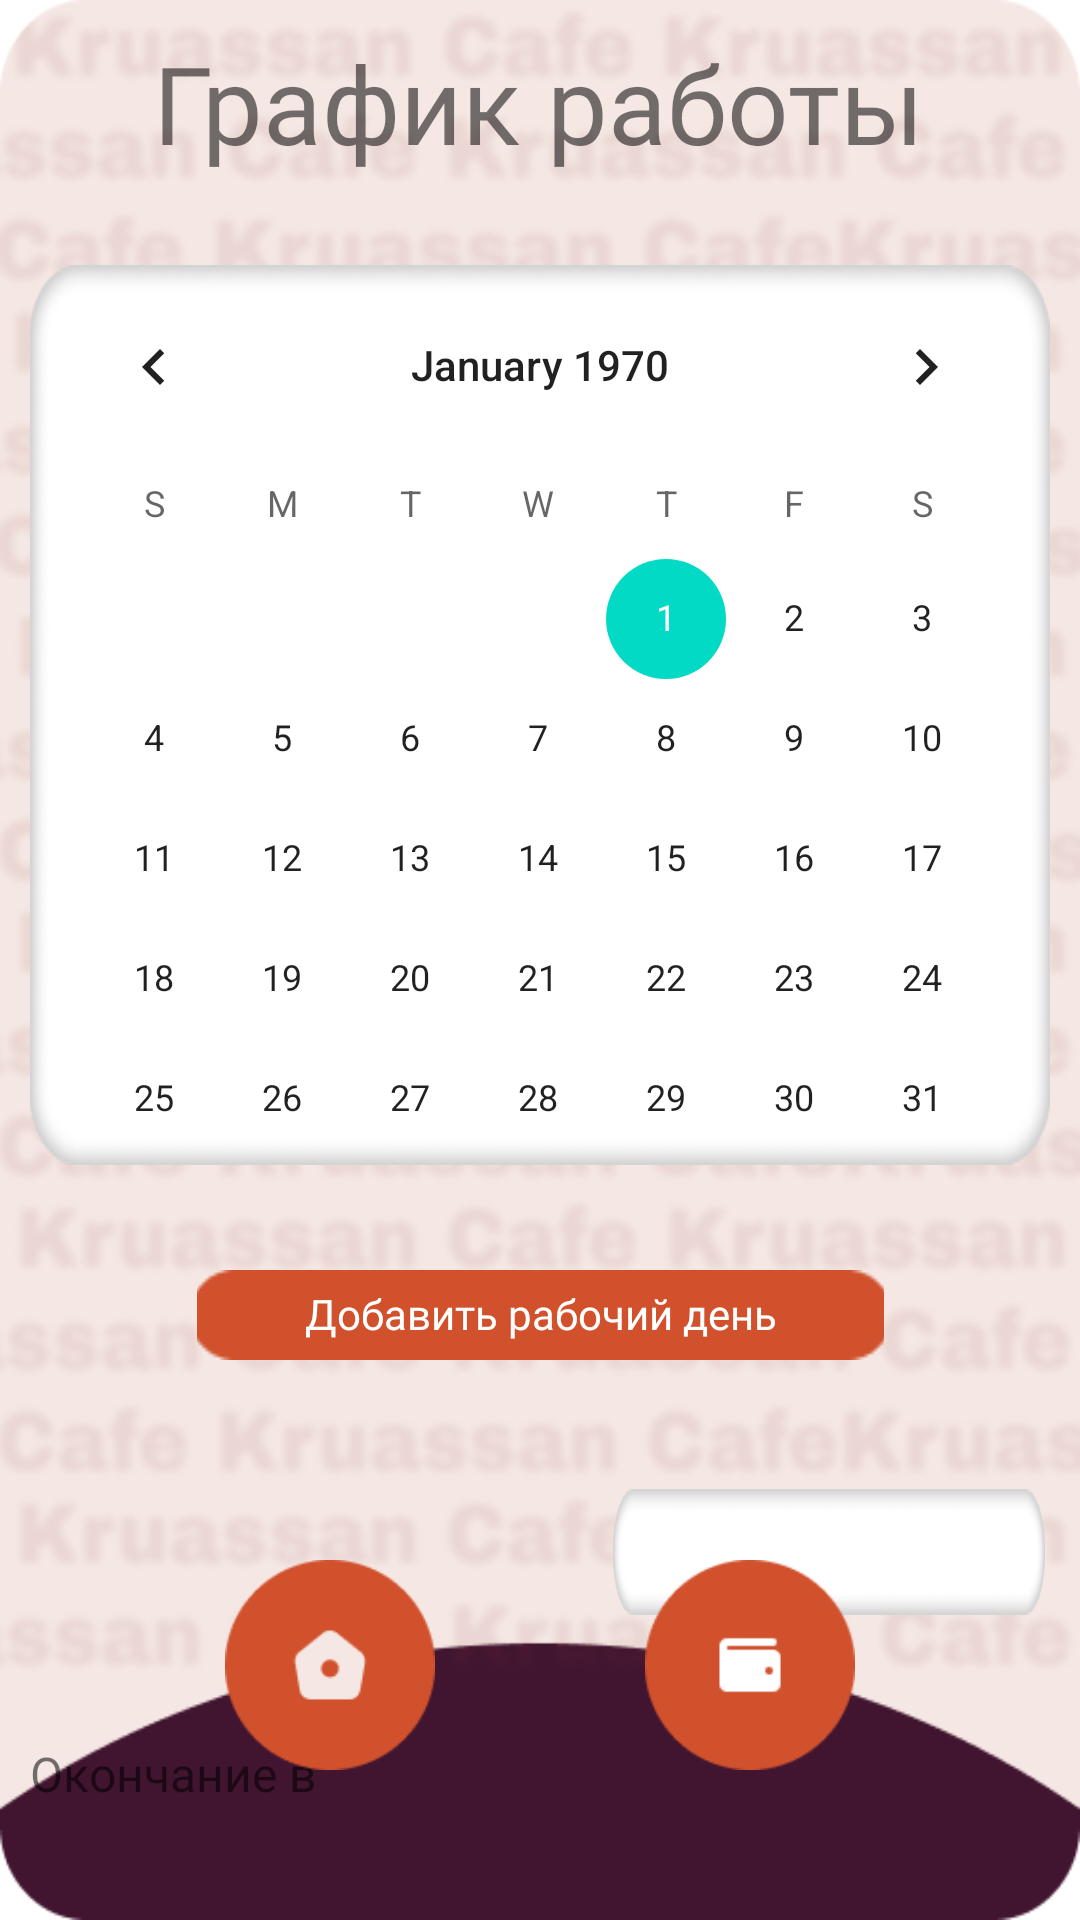

Named icons in this screenshot (1080 x 1920) and their centers, point (x, y):
home: point (330, 1665)
to payroll: point (750, 1665)
